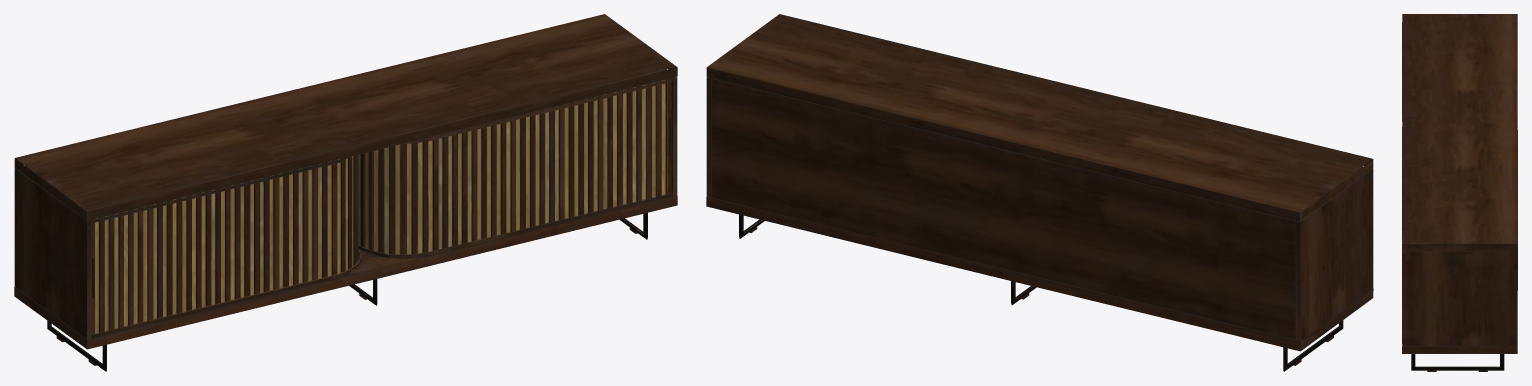
The model's file is modern_wooden_cabinet.glb.
The picture shows the model from 3 angles, left to right: view 1: azimuth 30°, elevation 25°; view 2: azimuth 150°, elevation 25°; view 3: azimuth 270°, elevation 25°; orthographic projection. The views are drawn at different scales.
Visible parts, largest first — view 1: modern_wooden_cabinet_body; view 2: modern_wooden_cabinet_body; view 3: modern_wooden_cabinet_body.
Part boxes in pixels (x1=…): modern_wooden_cabinet_body: x1=14, y1=14, x2=677, y2=371; modern_wooden_cabinet_body: x1=706, y1=14, x2=1373, y2=371; modern_wooden_cabinet_body: x1=1402, y1=14, x2=1517, y2=371.
Size of the model in its own units: 2.44 by 0.6801 by 0.5204.
Materials: 1 (1 with a texture image).
